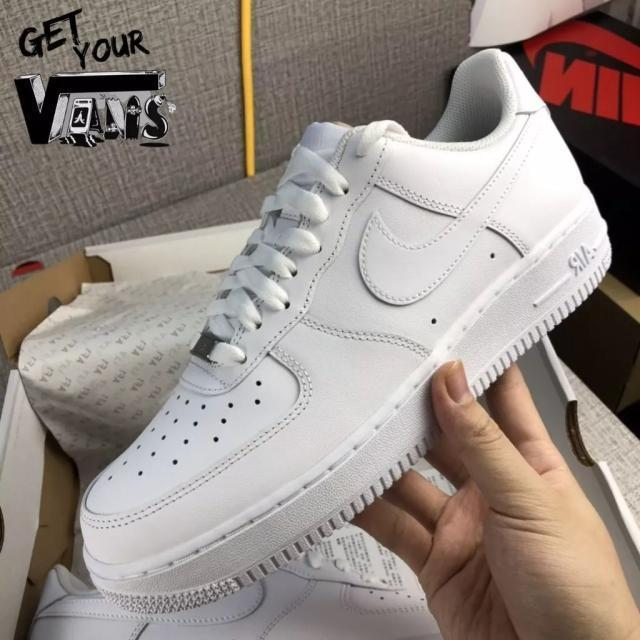nike original air force: (76, 49, 630, 616)
